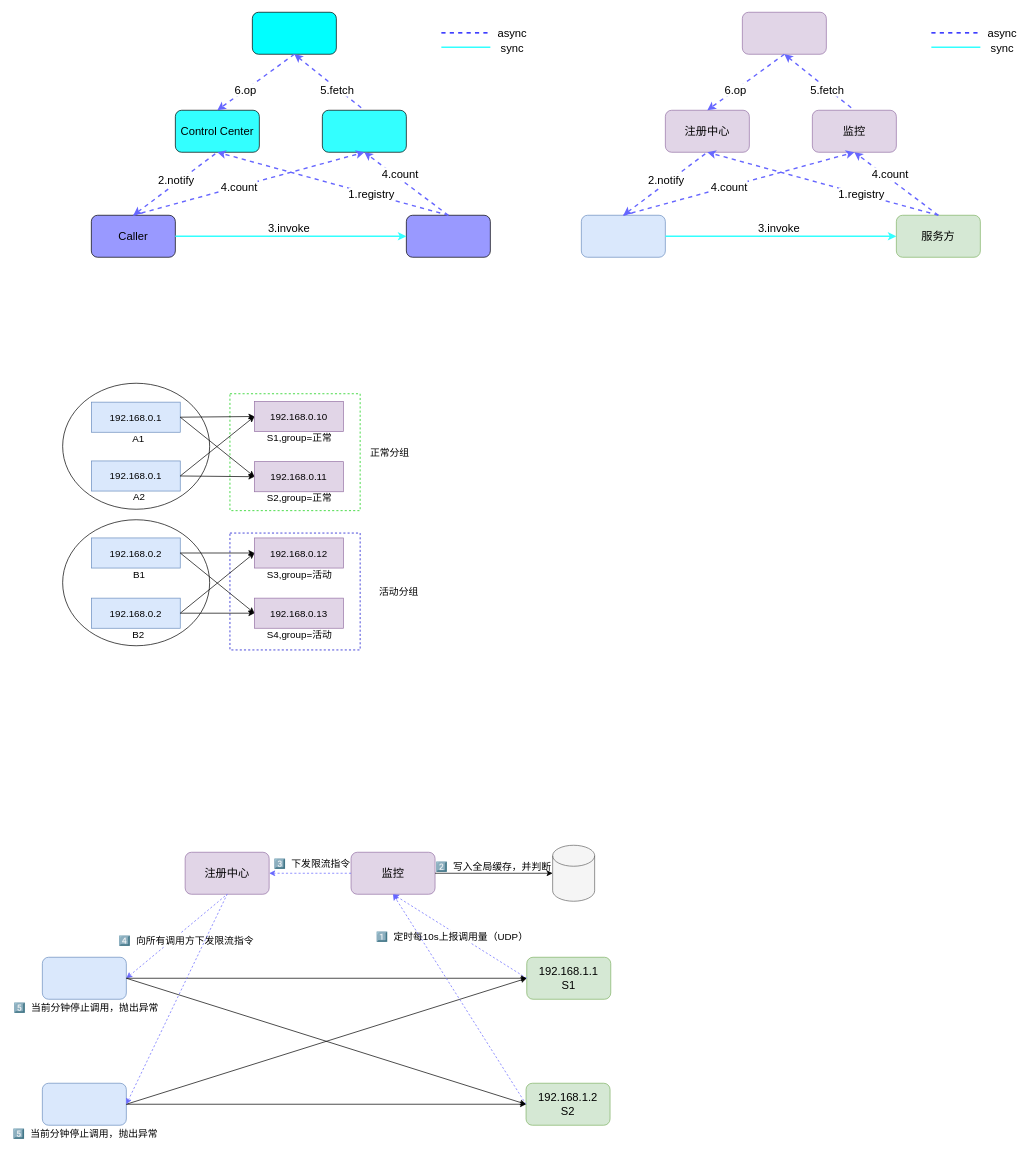
Some shapes in this 1028 by 1152 pixel diagram are drawn without their labels. The shapes that lost their labels are listed below. From the top down, each one's centre as x and y in pixels, then its label:
At (294,33): "Srvmgr".
At (784,33): "管理平台".
At (364,131): "Monitor".
At (448,236): "Service".
At (623,236): "调用方".
At (573,873): "Redis".
At (84,978): "192.168.0.1 C1".
At (84,1104): "192.168.0.2 C2".
